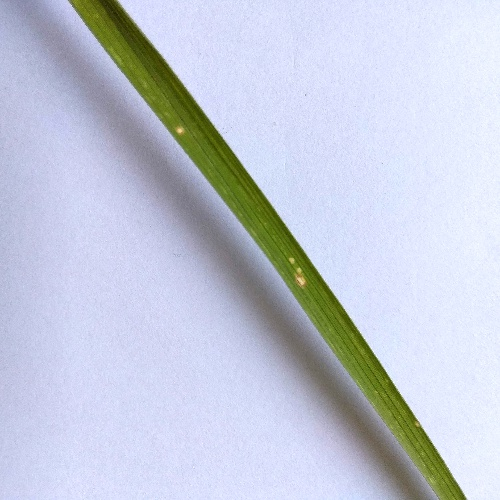Busuk Leher: (286, 253, 307, 290), (172, 118, 189, 141), (410, 414, 430, 430)
